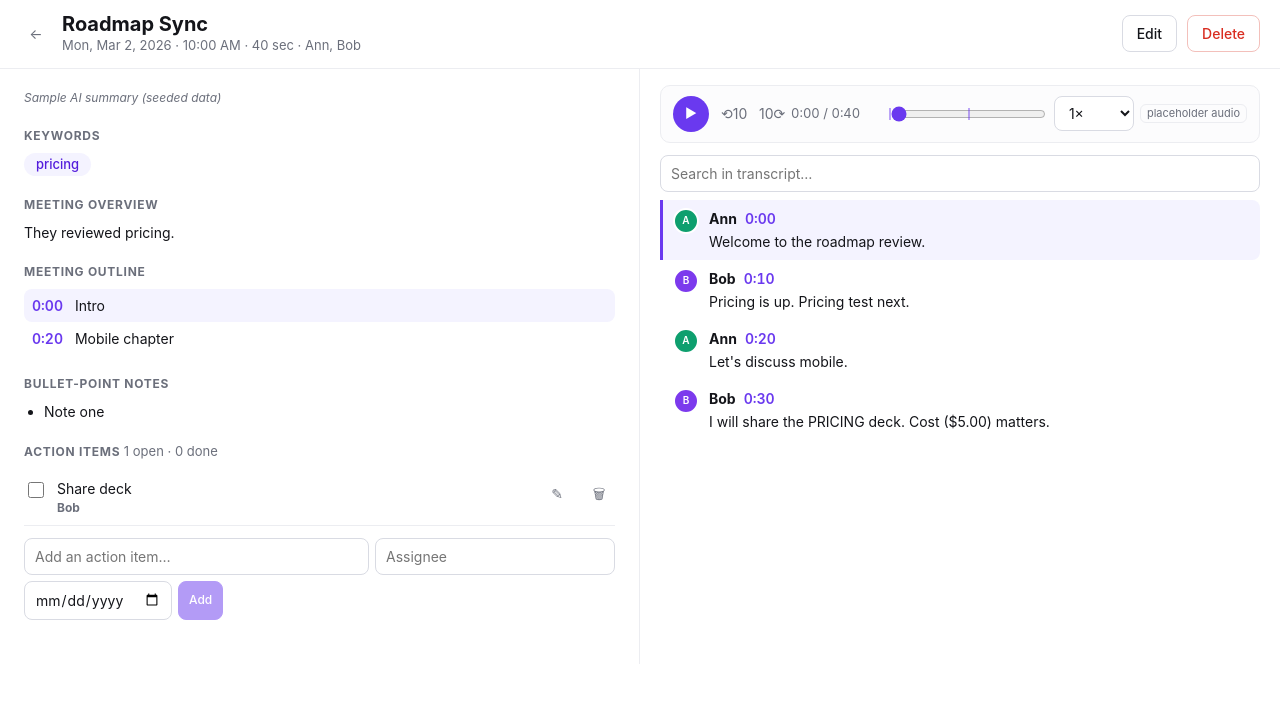
Test: transcript search › highlights every match, counts them, and navigates
The image size is (1280, 720).
expect the heading "Roadmap Sync" is shown: met, box left=62, top=12, right=208, bottom=36
Type "pricing" into the search field named "Search transcript" at (960, 173), box left=660, top=154, right=1260, bottom=192
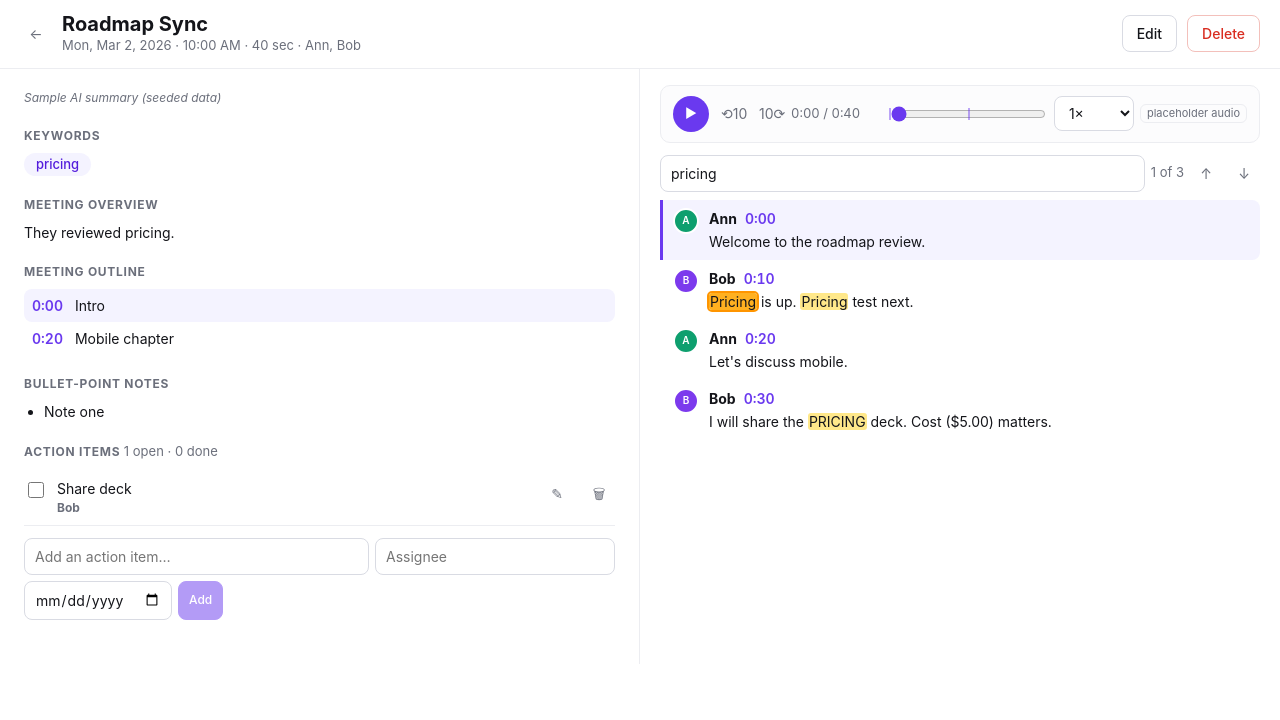
expect the text "1 of 3" is shown: met, box left=1151, top=163, right=1184, bottom=183
Press Enter in the search field named "Search transcript", box left=660, top=154, right=1145, bottom=192
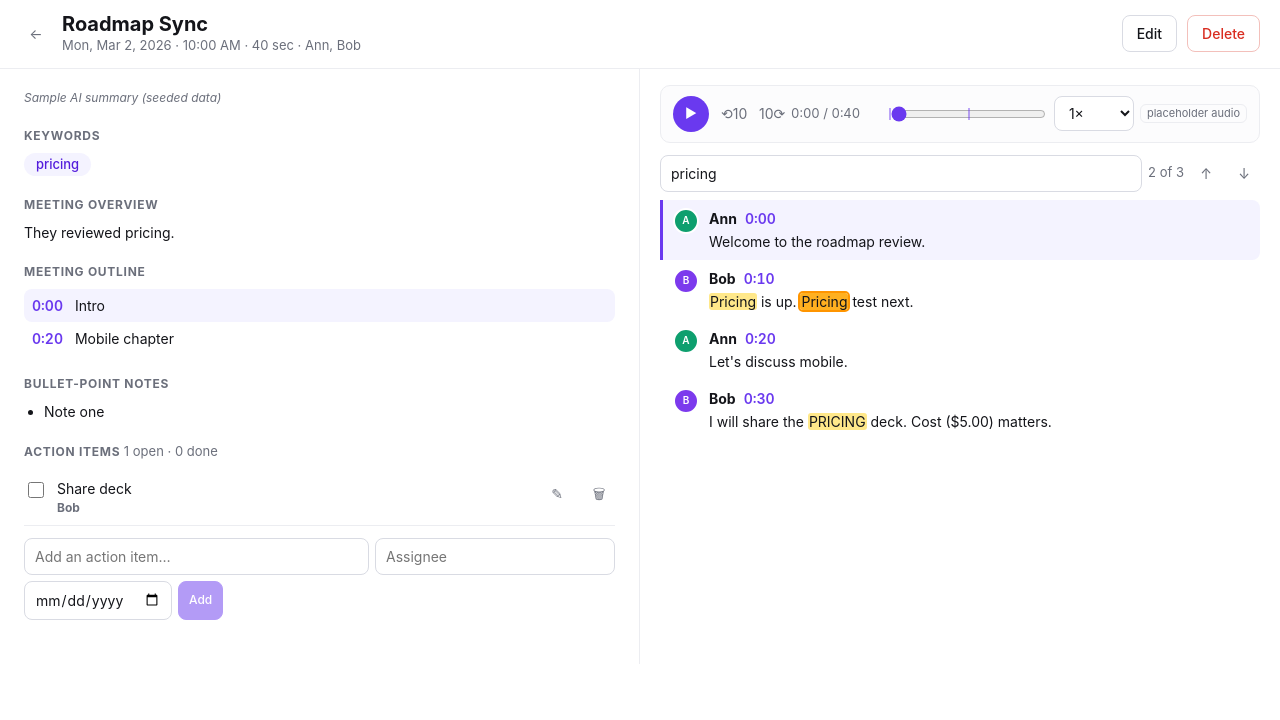
expect the text "2 of 3" is shown: met, box left=1148, top=163, right=1184, bottom=183
Click the button named "Previous match" at (1206, 173), box left=1190, top=157, right=1222, bottom=189
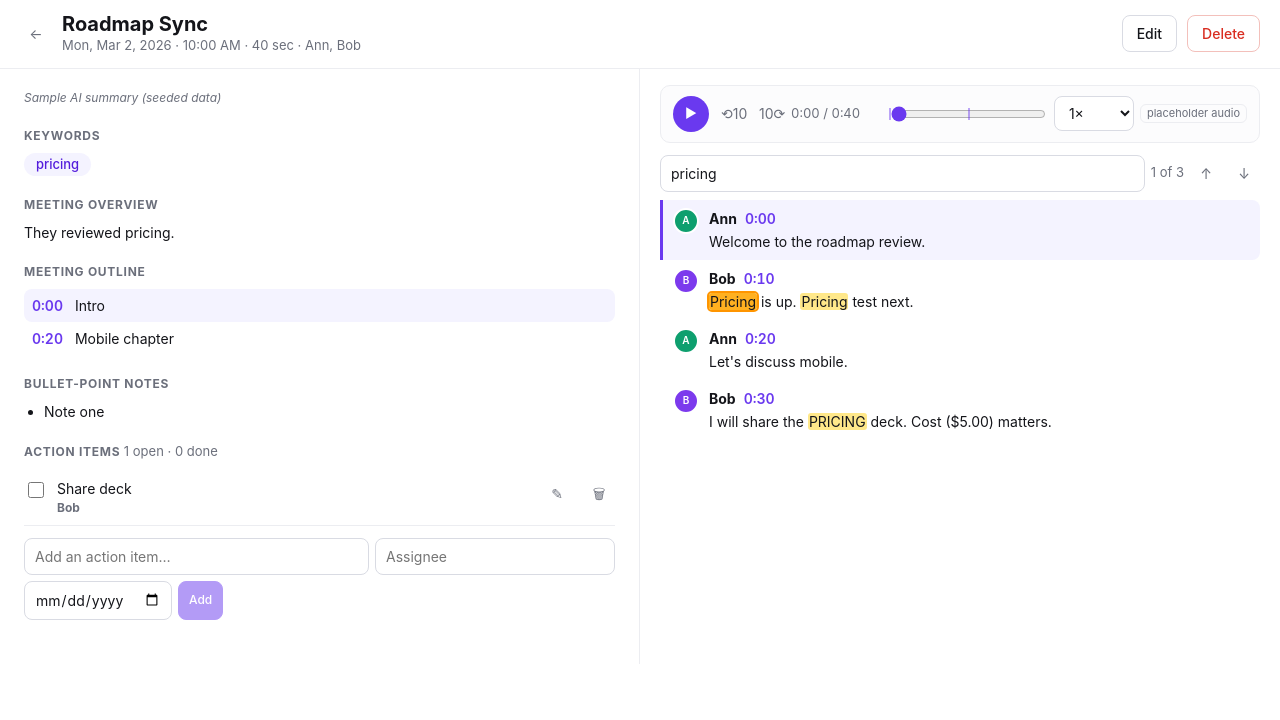
Click the button named "Previous match" at (1206, 173), box left=1190, top=157, right=1222, bottom=189
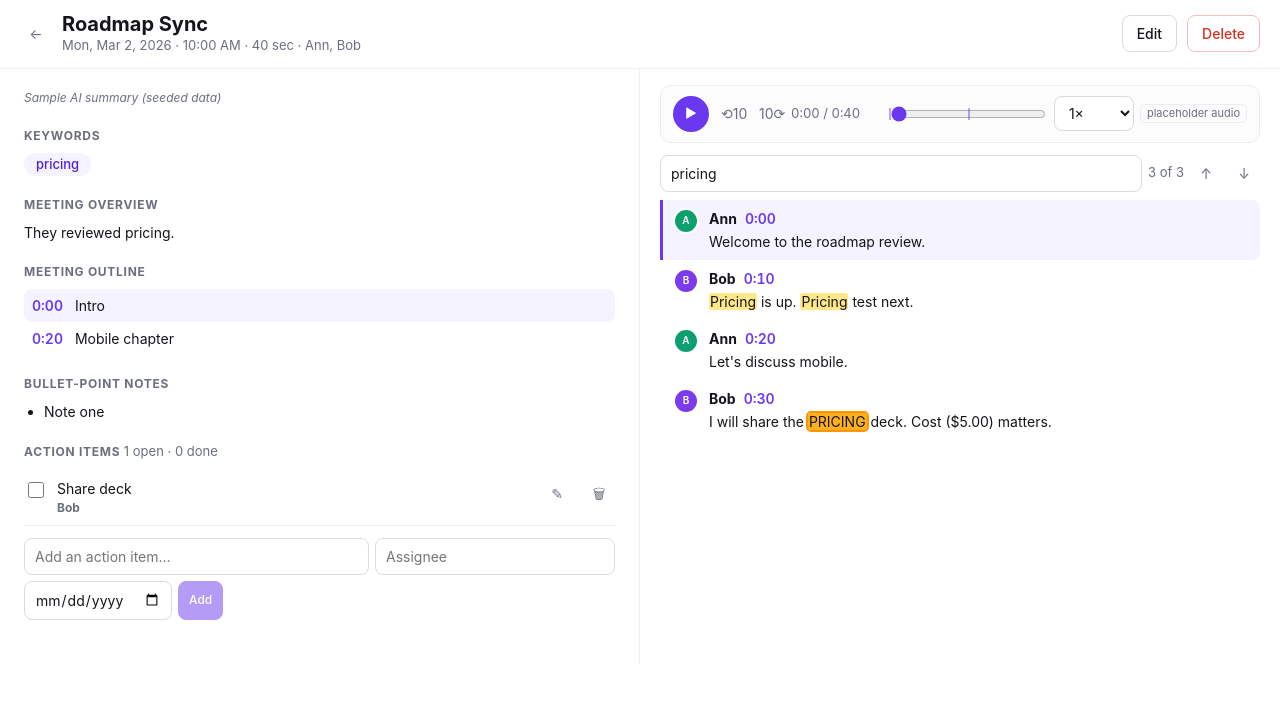
expect the text "3 of 3" is shown: met, box left=1148, top=163, right=1184, bottom=183
